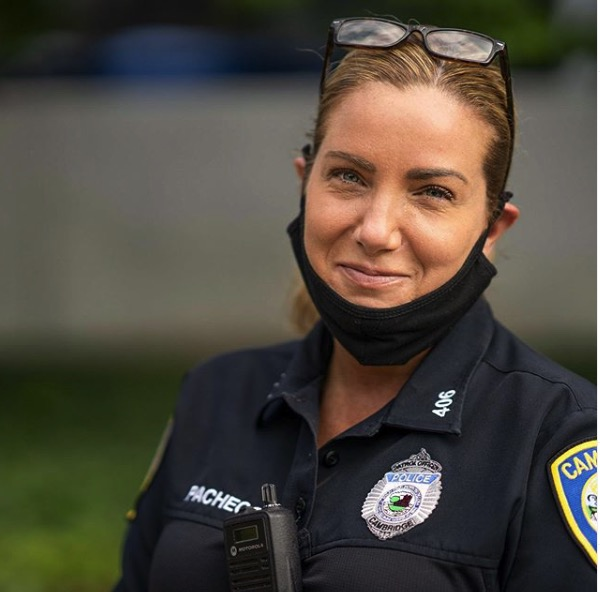mask_weared_incorrect: (323, 129, 480, 348)
